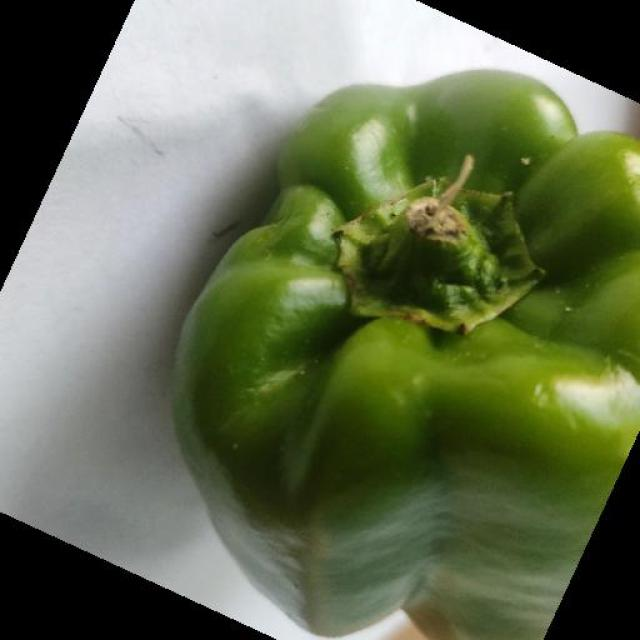Fresh_Capsicum: (201, 82, 640, 640)
